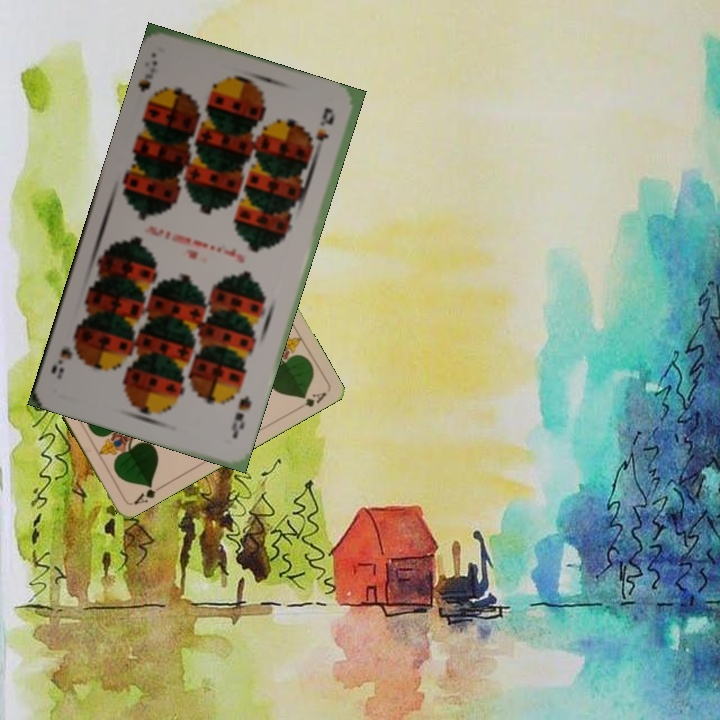GA: (128, 479, 165, 507)
S9: (227, 392, 254, 441), (135, 56, 161, 95)
